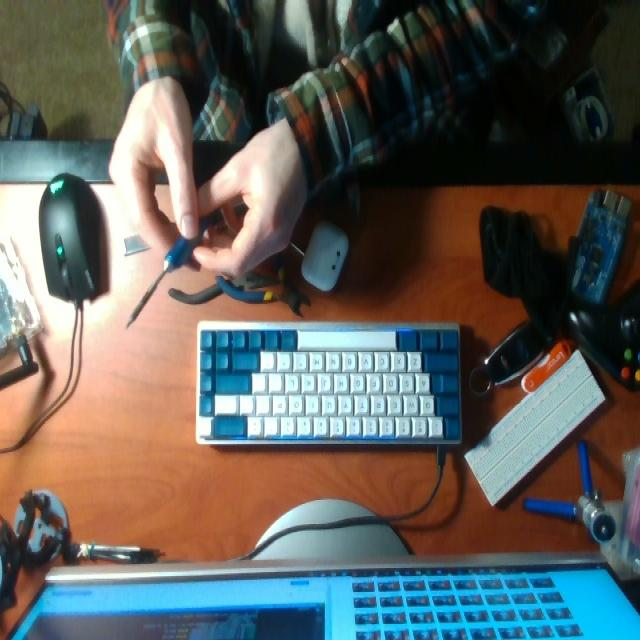keyboard: (197, 327, 462, 446)
